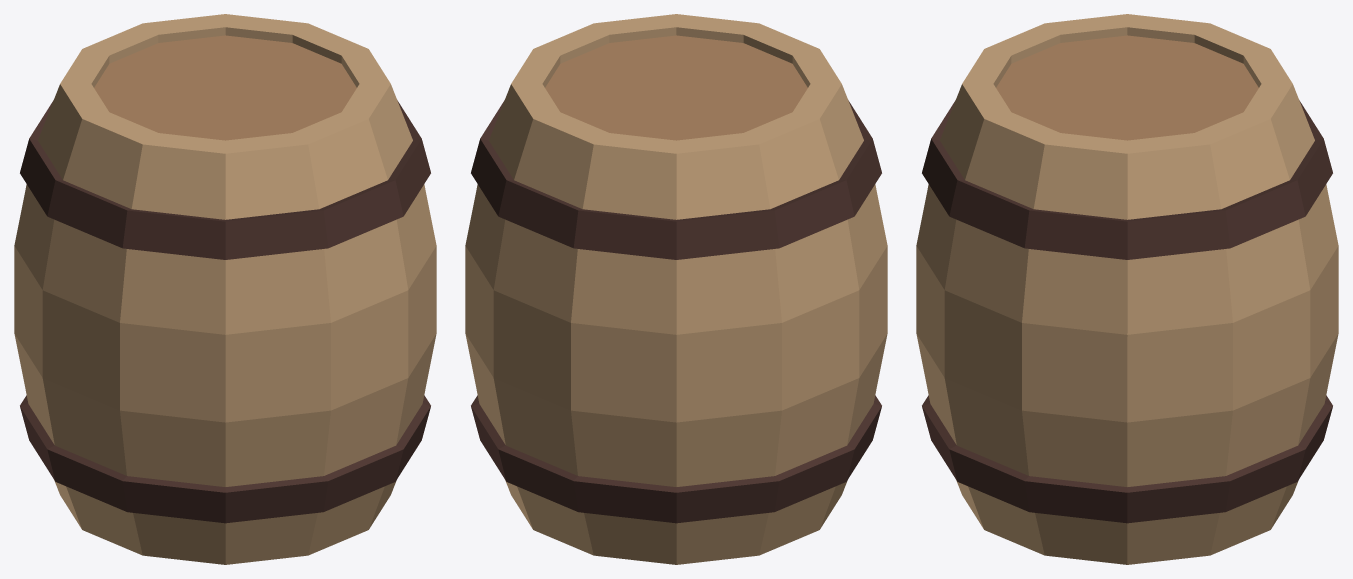
The model's file is Barrel.fbx.
3 views of the same model, side by side, from view 1: azimuth 30°, elevation 25°; view 2: azimuth 150°, elevation 25°; view 3: azimuth 270°, elevation 25° (orthographic).
Visible parts, largest first — view 1: Barrel; view 2: Barrel; view 3: Barrel.
Part boxes in pixels (bbox=[...]): Barrel: bbox=[14, 14, 436, 564]; Barrel: bbox=[465, 14, 887, 564]; Barrel: bbox=[916, 14, 1338, 564].
Size of the model in its own units: 1.4 by 1.5 by 1.4.
